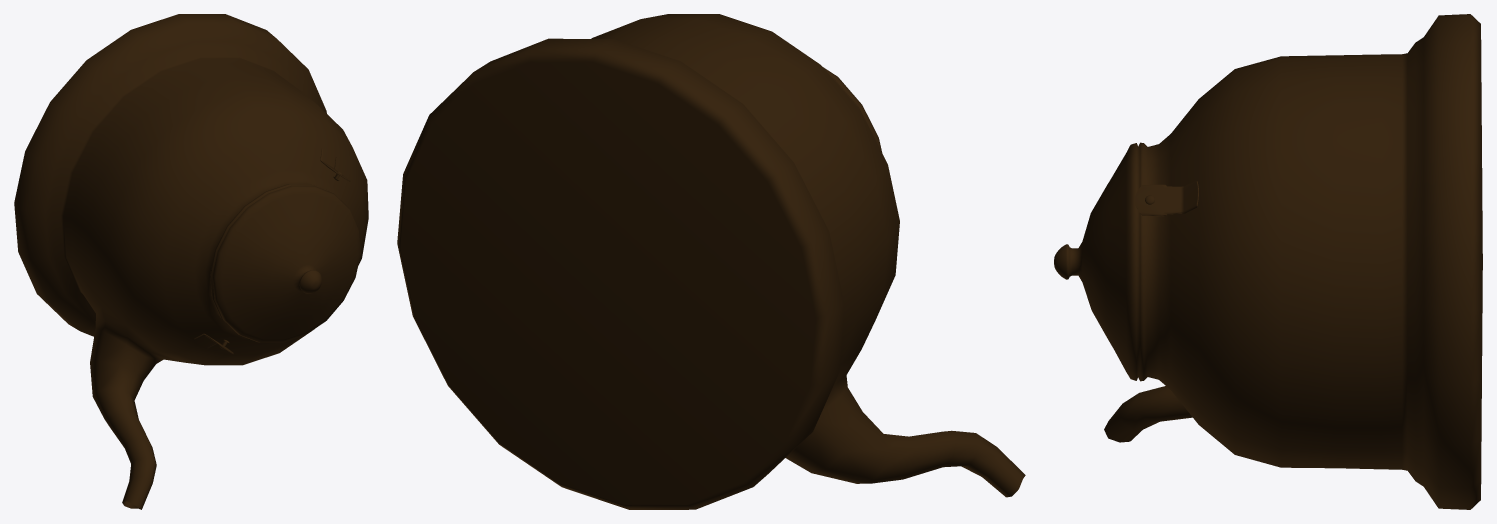
3 views of the same model, side by side, from view 1: azimuth 30°, elevation 25°; view 2: azimuth 150°, elevation 25°; view 3: azimuth 270°, elevation 25° (orthographic). The views are drawn at different scales.
Size of the model in its own units: 0.9155 by 0.9988 by 0.7559.
